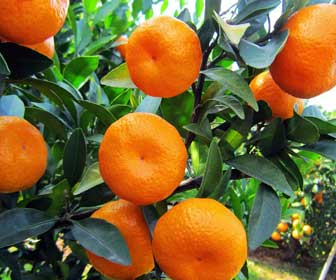orange: (97, 111, 186, 205), (152, 197, 248, 280), (267, 2, 336, 98), (125, 14, 202, 97), (85, 198, 154, 279), (1, 115, 48, 191), (245, 68, 303, 124), (1, 1, 68, 45), (1, 24, 56, 74)
